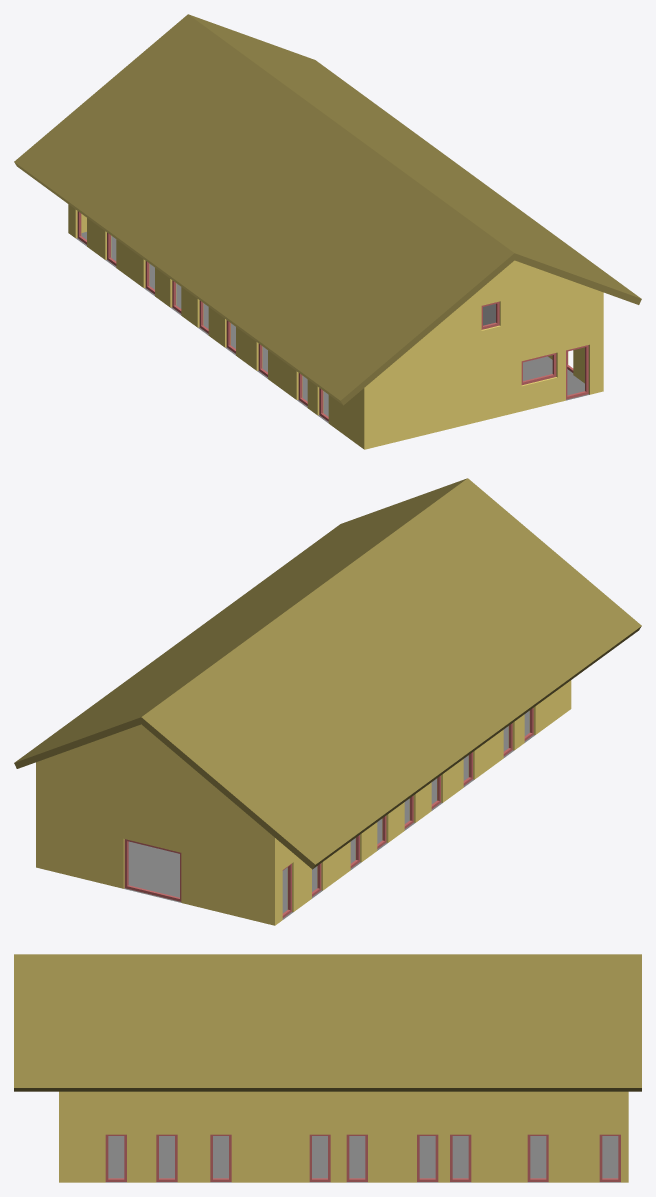
The model's file is result.glb.
The picture shows the model from 3 angles, top to bottom: view 1: azimuth 30°, elevation 25°; view 2: azimuth 150°, elevation 25°; view 3: azimuth 270°, elevation 25°; orthographic projection. The views are drawn at different scales.
Parts seen in each view (by area): view 1: 2195489e-ccaf-4340-a723-4a1ada76640b__undefined (×2), 1bac3e60-b4a7-4fdb-8b71-270719bf45b7__undefined, f0d03672-6957-4beb-befa-a33271af731b__Plane_40; view 2: 2195489e-ccaf-4340-a723-4a1ada76640b__undefined (×2), 1bac3e60-b4a7-4fdb-8b71-270719bf45b7__undefined, f0d03672-6957-4beb-befa-a33271af731b__Plane_40, 4f3f4f6b-6fb0-4beb-9bc5-fac468948561__Box_9; view 3: 2195489e-ccaf-4340-a723-4a1ada76640b__undefined, 1bac3e60-b4a7-4fdb-8b71-270719bf45b7__undefined, f0d03672-6957-4beb-befa-a33271af731b__Plane_40, 466658e0-decf-483c-b81c-108ed7be8d08__Box_66, 8bb95dcf-cefb-4e3a-bde5-8bddda958a6f__Box_78, 39a776db-9b63-405c-95e6-6698490c6761__Box_81, b7610005-f284-4738-b246-f859cec46679__Box_84, b13e6647-6cdf-403b-a22e-9e3da847a9e2__Box_87, 7e102f96-d37b-4a94-ae8d-d59ea8617aad__Box_90, 0318a7ae-3ea1-4bcd-adce-817c4c7e2e78__Box_69, 8524bb4f-d4f4-441d-8ccb-1e2a43b09083__Box_72, 35fa6ca7-fb1a-4e9c-b1f2-00cae899cab7__Box_75.
Part boxes in pixels (x1,y1,x2,y2): 2195489e-ccaf-4340-a723-4a1ada76640b__undefined (×2): [14, 14, 641, 405]; 1bac3e60-b4a7-4fdb-8b71-270719bf45b7__undefined: [68, 204, 603, 449]; f0d03672-6957-4beb-befa-a33271af731b__Plane_40: [76, 232, 589, 423]; 2195489e-ccaf-4340-a723-4a1ada76640b__undefined (×2): [14, 478, 641, 869]; 1bac3e60-b4a7-4fdb-8b71-270719bf45b7__undefined: [36, 680, 571, 925]; f0d03672-6957-4beb-befa-a33271af731b__Plane_40: [124, 711, 535, 919]; 4f3f4f6b-6fb0-4beb-9bc5-fac468948561__Box_9: [124, 839, 181, 901]; 2195489e-ccaf-4340-a723-4a1ada76640b__undefined: [14, 954, 641, 1091]; 1bac3e60-b4a7-4fdb-8b71-270719bf45b7__undefined: [59, 1091, 628, 1182]; f0d03672-6957-4beb-befa-a33271af731b__Plane_40: [105, 1136, 620, 1182]; 466658e0-decf-483c-b81c-108ed7be8d08__Box_66: [105, 1134, 126, 1181]; 8bb95dcf-cefb-4e3a-bde5-8bddda958a6f__Box_78: [346, 1134, 367, 1181]; 39a776db-9b63-405c-95e6-6698490c6761__Box_81: [417, 1134, 438, 1181]; b7610005-f284-4738-b246-f859cec46679__Box_84: [450, 1134, 471, 1181]; b13e6647-6cdf-403b-a22e-9e3da847a9e2__Box_87: [527, 1134, 548, 1181]; 7e102f96-d37b-4a94-ae8d-d59ea8617aad__Box_90: [599, 1134, 620, 1181]; 0318a7ae-3ea1-4bcd-adce-817c4c7e2e78__Box_69: [156, 1134, 177, 1181]; 8524bb4f-d4f4-441d-8ccb-1e2a43b09083__Box_72: [210, 1134, 231, 1181]; 35fa6ca7-fb1a-4e9c-b1f2-00cae899cab7__Box_75: [309, 1134, 330, 1181].
Bounding box in the file's own units: 1258 × 729 × 2360.
